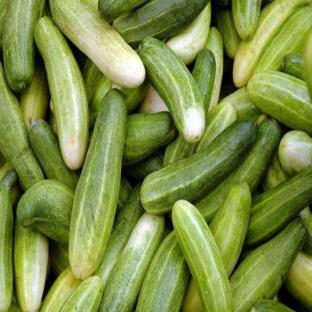Cucumber: (141, 119, 257, 214), (69, 90, 126, 279), (195, 119, 280, 221), (35, 17, 88, 169), (230, 219, 306, 311), (233, 0, 311, 87), (139, 38, 204, 142), (173, 201, 232, 311), (99, 213, 164, 311), (0, 63, 44, 189), (245, 169, 311, 246), (95, 186, 144, 289), (113, 0, 209, 46), (137, 232, 190, 311), (2, 0, 46, 92), (248, 71, 311, 135), (210, 182, 251, 276), (254, 7, 311, 72), (17, 180, 74, 243), (29, 120, 79, 189), (14, 219, 48, 311), (89, 76, 149, 128), (123, 112, 176, 166), (166, 2, 210, 64), (0, 171, 17, 311), (196, 102, 237, 152), (20, 61, 49, 130), (40, 268, 81, 311), (193, 49, 215, 121), (285, 250, 311, 310), (61, 276, 102, 311), (206, 28, 223, 111), (279, 131, 311, 175), (111, 78, 150, 114), (215, 7, 240, 59), (222, 88, 260, 120), (89, 76, 111, 129), (123, 152, 162, 180), (98, 0, 146, 22), (163, 134, 196, 166), (262, 152, 287, 190), (81, 58, 102, 103), (139, 87, 168, 113), (181, 279, 203, 311), (50, 241, 69, 277), (281, 53, 305, 80), (117, 176, 132, 212), (300, 207, 311, 254), (250, 299, 293, 311), (305, 32, 311, 100), (0, 0, 8, 51), (10, 182, 22, 206), (8, 289, 21, 311), (162, 216, 173, 241), (0, 161, 13, 181), (49, 111, 58, 135), (0, 153, 6, 170), (257, 114, 267, 124)
